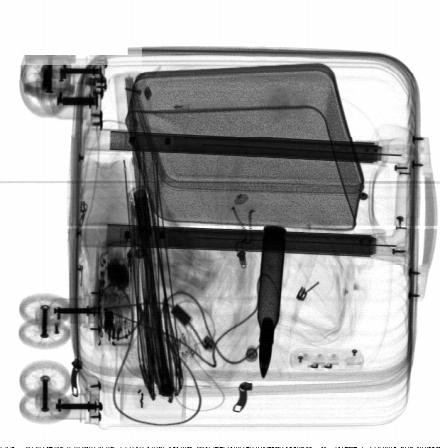Bullet: (257, 224, 287, 379)
